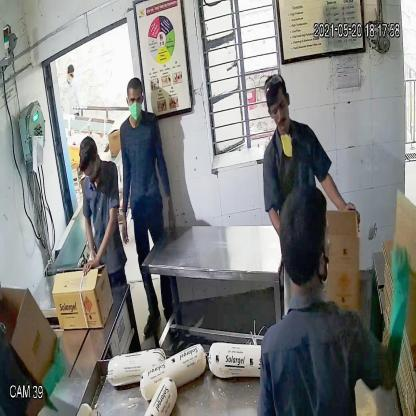no_goggles: (267, 96, 290, 118), (124, 92, 146, 108)
